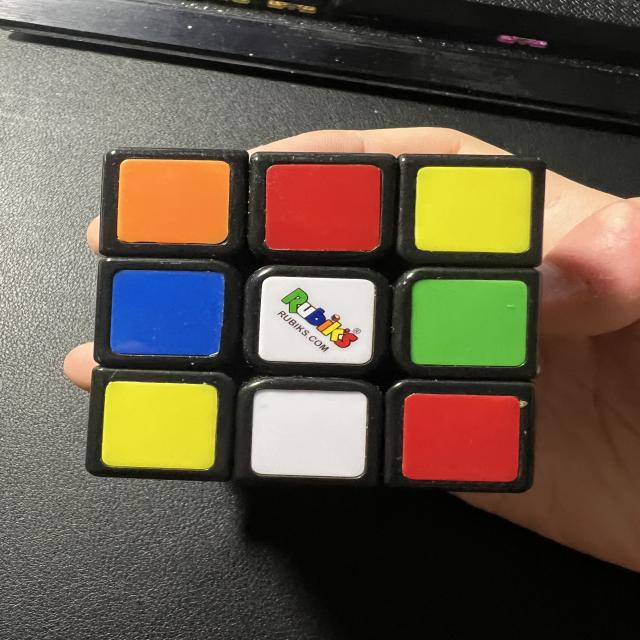blue: (109, 267, 222, 357)
center: (261, 276, 375, 363)
green: (411, 278, 528, 367)
orange: (121, 159, 229, 246)
red: (264, 162, 382, 251), (406, 392, 521, 482)
white: (253, 389, 366, 478)
yellow: (416, 165, 530, 253), (106, 380, 214, 470)
